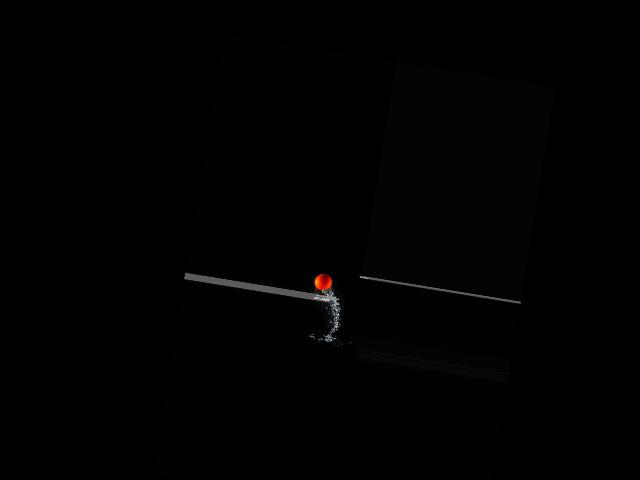tomato: (313, 273, 333, 291)
